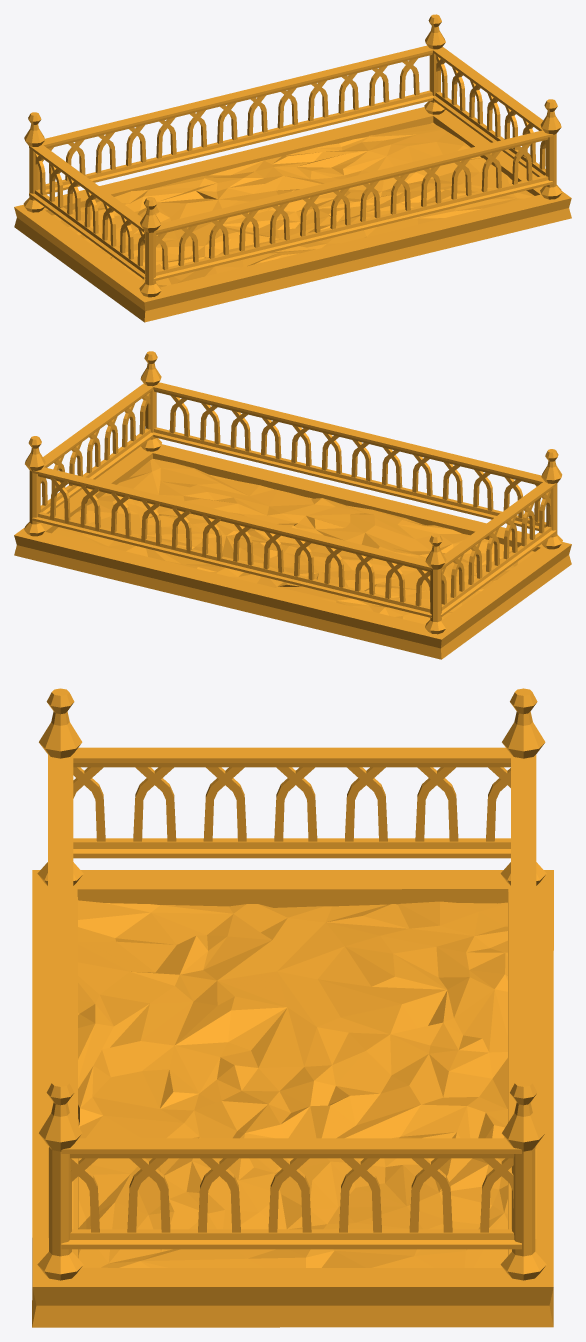
The model's file is SM_Tree_Pot_City_B_2m.fbx.
3 views of the same model, one above another, from view 1: azimuth 30°, elevation 25°; view 2: azimuth 150°, elevation 25°; view 3: azimuth 270°, elevation 25° (orthographic). The views are drawn at different scales.
Visible parts, largest first — view 1: SM_Tree_Pot_City_B_2m; view 2: SM_Tree_Pot_City_B_2m; view 3: SM_Tree_Pot_City_B_2m.
Boxes of the visible parts, box(x1,y1,x2,y2) form: SM_Tree_Pot_City_B_2m: box(14, 14, 571, 322); SM_Tree_Pot_City_B_2m: box(14, 351, 571, 659); SM_Tree_Pot_City_B_2m: box(32, 688, 553, 1327).
Bounding box in the file's own units: 2.13 × 0.5508 × 1.13.
